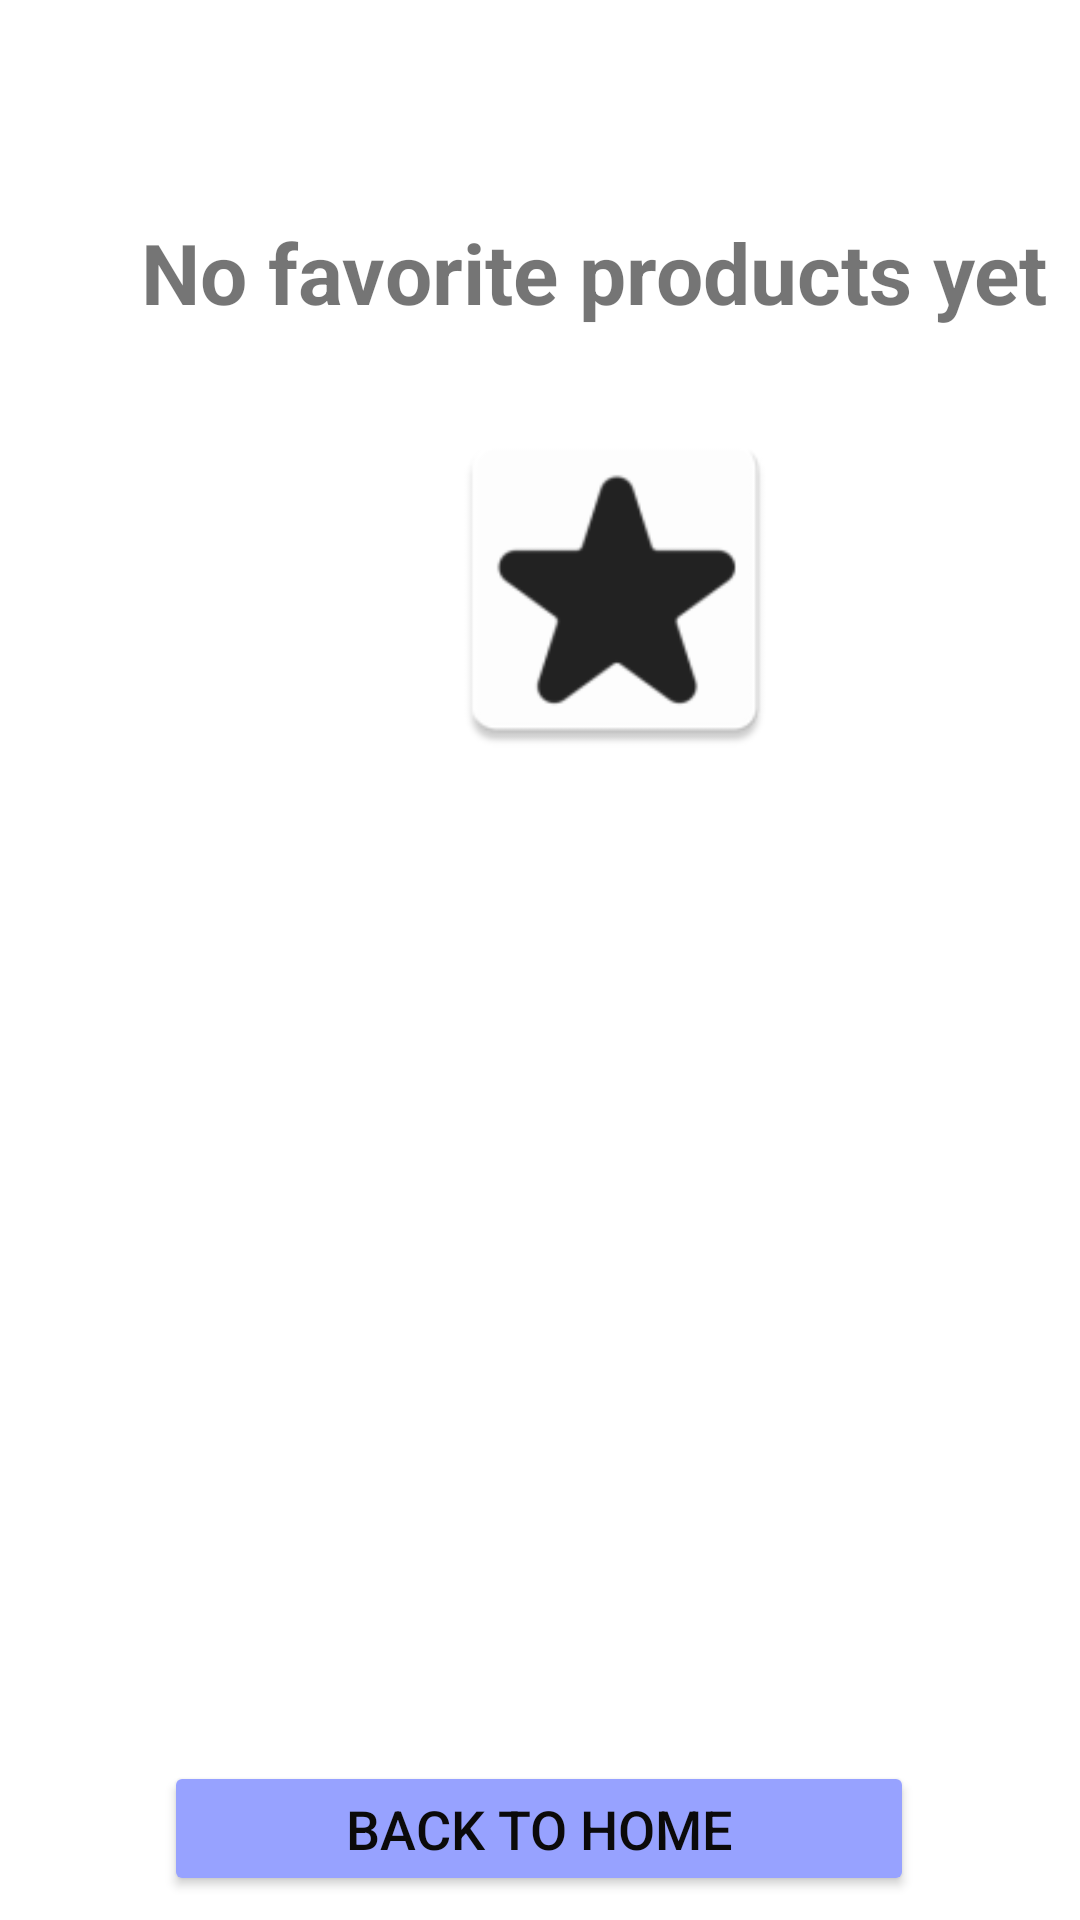

Where icons sit on this 1080px x 1920px app screen, as region(x1, y1, x2, y2):
favorites: region(472, 461, 759, 740)
